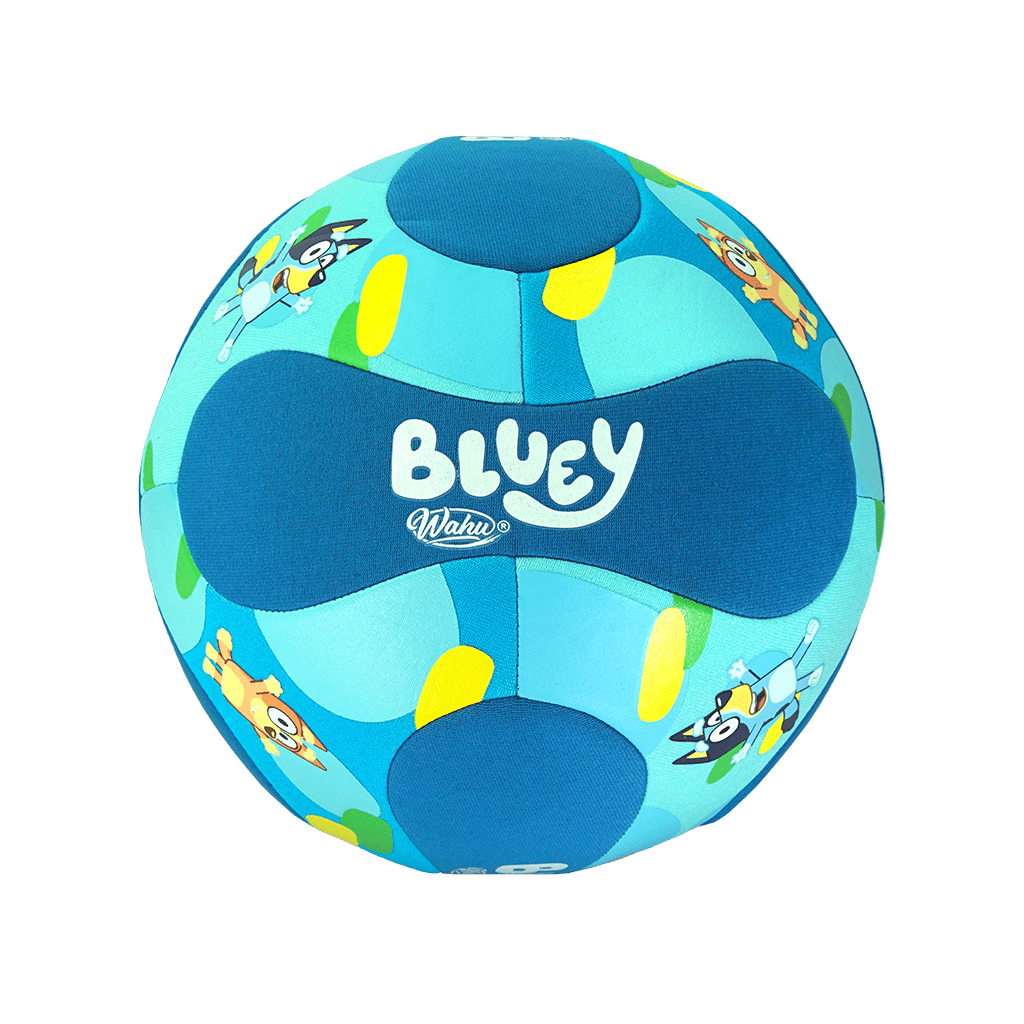ball: (137, 136, 886, 876)
